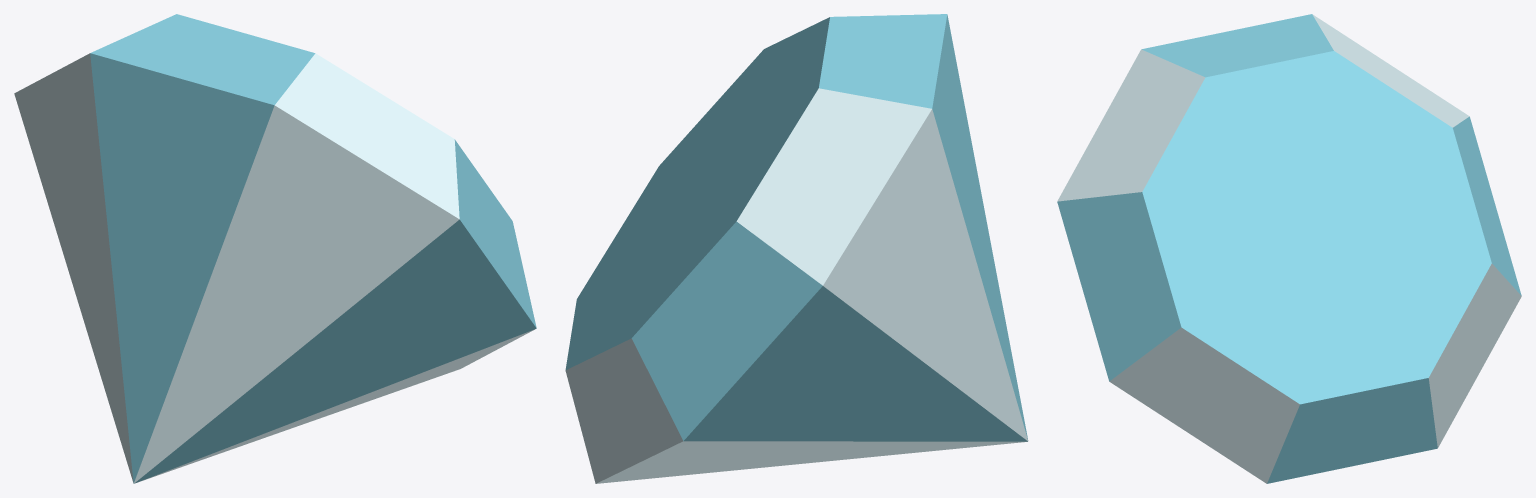
The model's file is Joya_color.fbx.
3 renders of one model, left to right at view 1: azimuth 30°, elevation 25°; view 2: azimuth 150°, elevation 25°; view 3: azimuth 270°, elevation 25°, orthographic. The views are drawn at different scales.
Parts seen in each view (by area): view 1: Joya; view 2: Joya; view 3: Joya.
Part boxes in pixels (<box>): Joya: <box>14,14,536,483</box>; Joya: <box>565,14,1028,483</box>; Joya: <box>1057,14,1521,483</box>.
Size of the model in its own units: 9.87 by 9.48 by 12.06.
